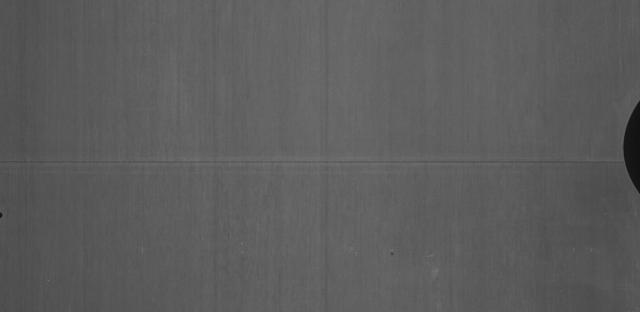punching_hole: (0, 201, 12, 227)
welding_line: (2, 152, 639, 172)
